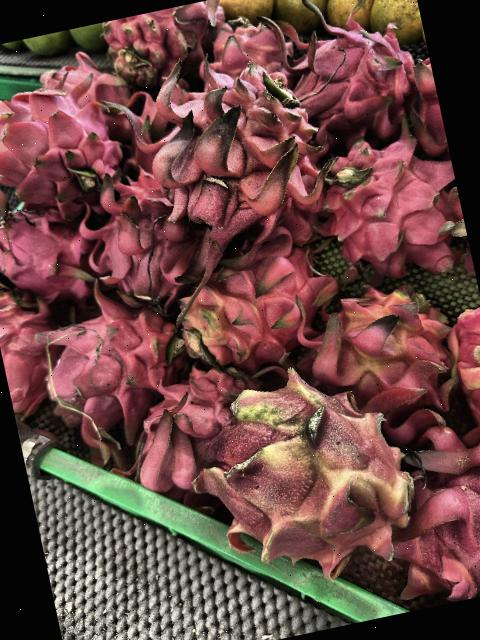buah-naga-belum-matang: (192, 360, 432, 598), (284, 259, 466, 440), (165, 238, 345, 377), (204, 6, 300, 88)
buah-naga-matang: (109, 39, 334, 274), (25, 284, 198, 460), (320, 120, 476, 300), (259, 0, 429, 159), (0, 68, 135, 235), (69, 168, 212, 322), (383, 409, 480, 609), (0, 196, 105, 316), (0, 273, 77, 434), (104, 0, 221, 86)
